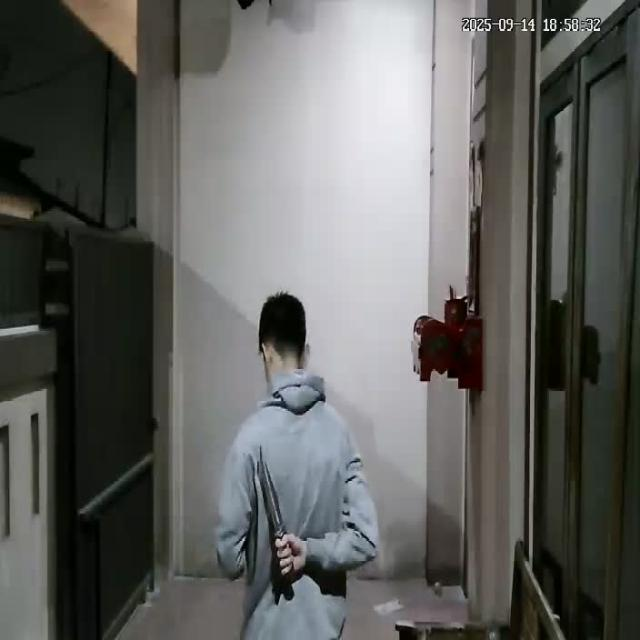senjata_tajam: (256, 440, 286, 540)
